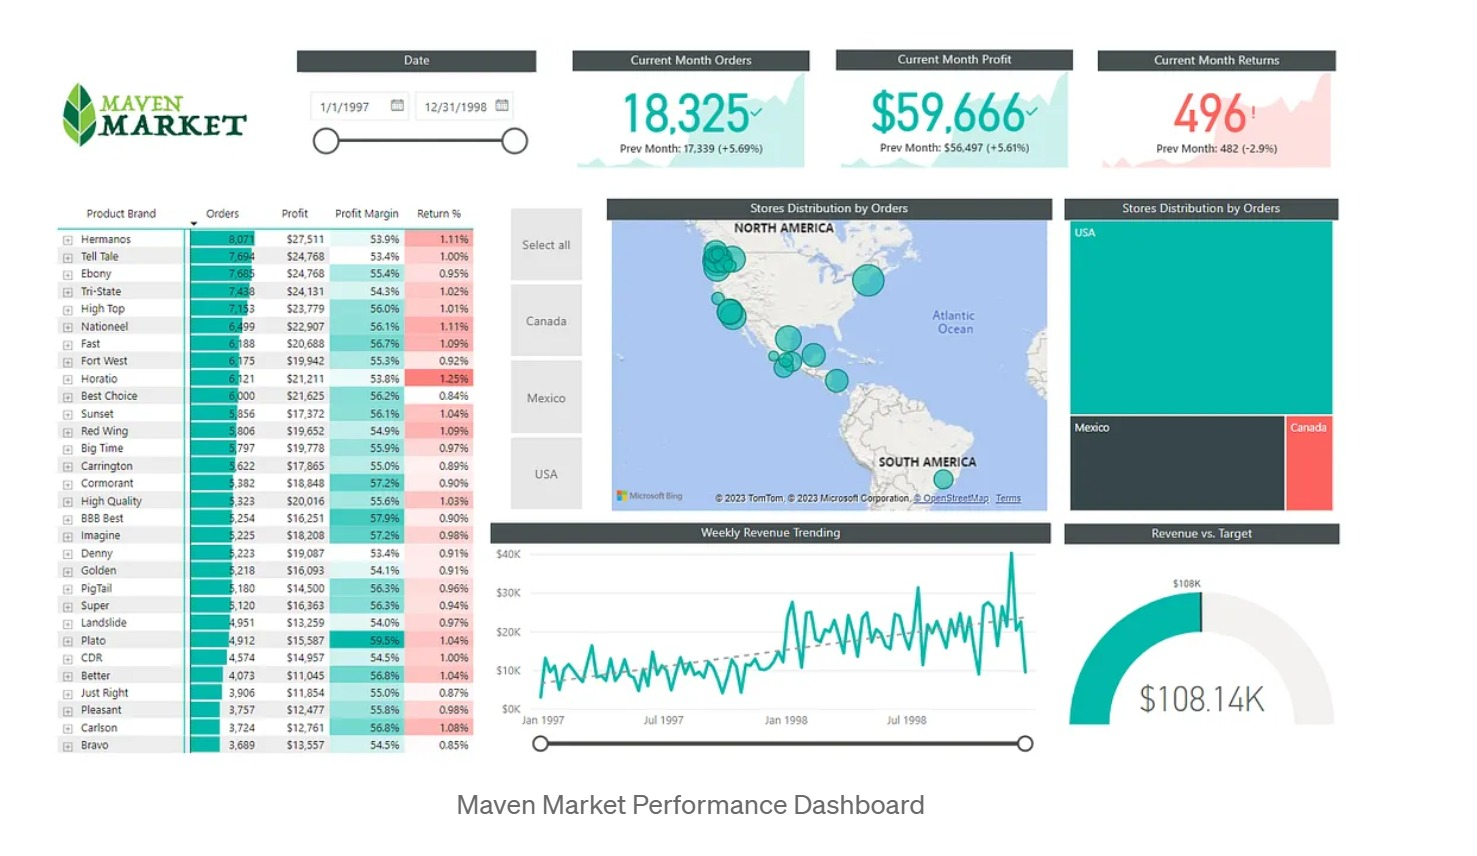

Layout of this report page (visuals, bound fields, positions):
{"tool":"powerbi","page":{"name":"Topline Performance","canvas":[1280,720],"ordinal":0},"visuals":[{"type":"pivotTable","title":"TOP 30 Products","fields":{"Rows":["Products.product_brand","Products.product_name"],"Values":["Transaction_Data.Total Transactions","Transaction_Data.Total Profit after","Transaction_Data.Profit Margin (A)","Returns.Return Rate"]},"box":[20,161,401,536],"z":1},{"type":"lineChart","title":"Weekly Revenue Trending","fields":{"Category":["Calendar.Start of Week"],"Y":["Transaction_Data.Total Revenue (After Discount)"]},"box":[445,490,525,192],"z":2},{"type":"treemap","title":"Location Sales Contribution","fields":{"Group":["Stores.store_country","Stores.store_city"],"Values":["Transaction_Data.Total Transactions"]},"box":[985.3,181.6,294.5,278.5],"z":3},{"type":"slicer","fields":{"Values":["Stores.store_country"]},"box":[420,178,124,269],"z":4},{"type":"azureMap","title":"Sales by Location","fields":{"Category":["Stores.store_city","Stores.store_state","Stores.store_country"],"Size":["Transaction_Data.Total Transactions"]},"box":[532,182,442,266],"z":5},{"type":"kpi","title":"Current Month Orders","fields":{"Goal":["Transaction_Data.Last month Transaction"],"Indicator":["Transaction_Data.Total Transactions"],"TrendLine":["Calendar.Start of Month"]},"box":[445,18,240,124],"z":6},{"type":"kpi","title":"Current Month Profits","fields":{"Goal":["Transaction_Data.Last Month Profit"],"Indicator":["Transaction_Data.Total Profit after"],"TrendLine":["Calendar.Start of Month"]},"box":[723,18,242,124.1],"z":7},{"type":"kpi","title":"Current Month Returns","fields":{"Goal":["Returns.Last Month Returns"],"Indicator":["Returns.Total Returns"],"TrendLine":["Calendar.Start of Month"]},"box":[1002,18,242,124.1],"z":8},{"type":"gauge","title":"Revenue vs. Target","fields":{"TargetValue":["Transaction_Data.Revenue Target"],"Y":["Transaction_Data.Total Revenue (After Discount)"]},"box":[991,490,254,171],"z":9},{"type":"slicer","title":"Date","fields":{"Values":["Calendar.date"]},"box":[200,18.4,233.1,114.1],"z":10},{"type":"image","box":[20,0,168,150],"z":11}]}

Visuals, with their boxes in screenshot pixels (x1, y1, x2, y2), scaled from the page's 1280x720 canvas onto the 1477x856 screenshot:
"TOP 30 Products" pivotTable: bbox=[23, 191, 486, 829]
"Weekly Revenue Trending" lineChart: bbox=[513, 583, 1119, 811]
"Location Sales Contribution" treemap: bbox=[1137, 216, 1476, 547]
slicer - Stores.store_country: bbox=[485, 212, 628, 531]
"Sales by Location" azureMap: bbox=[614, 216, 1124, 533]
"Current Month Orders" kpi: bbox=[513, 21, 790, 169]
"Current Month Profits" kpi: bbox=[834, 21, 1114, 169]
"Current Month Returns" kpi: bbox=[1156, 21, 1435, 169]
"Revenue vs. Target" gauge: bbox=[1144, 583, 1437, 786]
"Date" slicer: bbox=[231, 22, 500, 158]
image: bbox=[23, 0, 217, 178]
